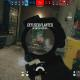Character: (35, 37, 44, 47)
Head: (39, 37, 42, 40)
